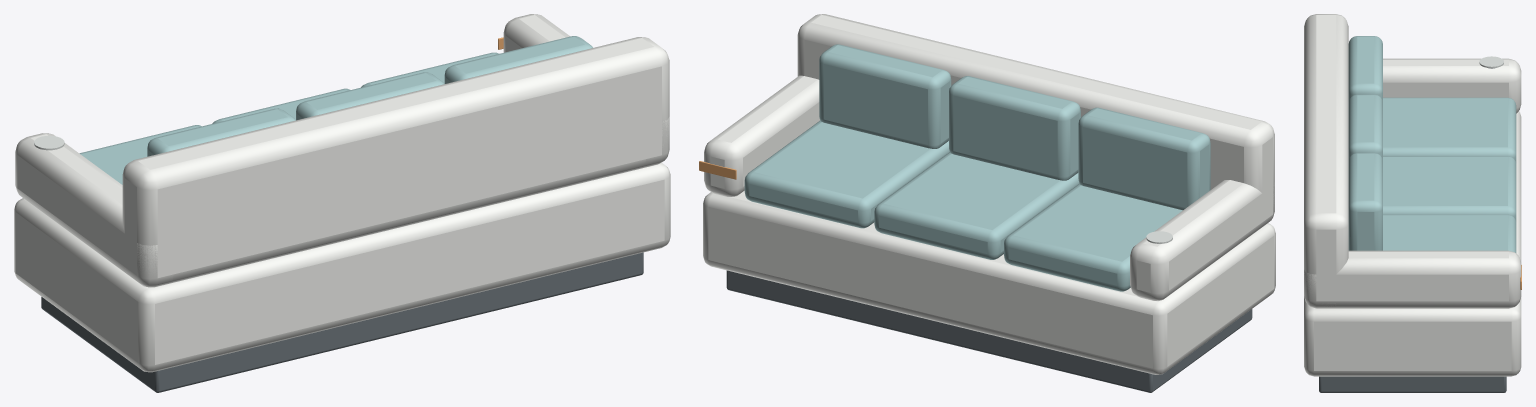
Rendered from lounge_sofa.glb.
3 views of the same model, side by side, from view 1: azimuth 30°, elevation 25°; view 2: azimuth 150°, elevation 25°; view 3: azimuth 270°, elevation 25° (orthographic). The views are drawn at different scales.
Parts seen in each view (by area): view 1: back_white_painted, base_white_painted, plinth_graphite, arm_l_white_painted, arm_r_white_painted, back_0_teal_soft, back_2_teal_soft, back_1_teal_soft, seat_0_teal_soft, seat_2_teal_soft, seat_1_teal_soft; view 2: base_white_painted, back_white_painted, seat_2_teal_soft, seat_1_teal_soft, seat_0_teal_soft, back_2_teal_soft, back_1_teal_soft, back_0_teal_soft, plinth_graphite, arm_l_white_painted, arm_r_white_painted; view 3: base_white_painted, back_white_painted, arm_r_white_painted, seat_0_teal_soft, seat_1_teal_soft, arm_l_white_painted, seat_2_teal_soft, back_2_teal_soft, plinth_graphite, back_0_teal_soft, back_1_teal_soft, cup_ring_satin_steel.
Boxes of the visible parts, <box> form: back_white_painted: <box>122,37,669,284</box>; base_white_painted: <box>14,162,670,372</box>; plinth_graphite: <box>41,252,643,392</box>; arm_l_white_painted: <box>15,133,173,287</box>; arm_r_white_painted: <box>503,14,669,168</box>; back_0_teal_soft: <box>147,108,295,156</box>; back_2_teal_soft: <box>444,36,592,83</box>; back_1_teal_soft: <box>296,72,444,120</box>; seat_0_teal_soft: <box>79,125,201,184</box>; seat_2_teal_soft: <box>361,52,498,87</box>; seat_1_teal_soft: <box>212,88,350,123</box>; base_white_painted: <box>703,191,1275,374</box>; back_white_painted: <box>797,14,1274,215</box>; seat_2_teal_soft: <box>744,121,949,228</box>; seat_1_teal_soft: <box>874,152,1079,259</box>; seat_0_teal_soft: <box>1004,184,1182,291</box>; back_2_teal_soft: <box>819,44,951,148</box>; back_1_teal_soft: <box>949,76,1080,180</box>; back_0_teal_soft: <box>1078,107,1210,210</box>; plinth_graphite: <box>726,270,1252,392</box>; arm_l_white_painted: <box>1130,180,1274,300</box>; arm_r_white_painted: <box>704,75,819,196</box>; base_white_painted: <box>1304,111,1521,376</box>; back_white_painted: <box>1304,14,1348,306</box>; arm_r_white_painted: <box>1304,250,1521,308</box>; seat_0_teal_soft: <box>1383,97,1516,162</box>; seat_1_teal_soft: <box>1383,156,1516,221</box>; arm_l_white_painted: <box>1383,58,1521,113</box>; seat_2_teal_soft: <box>1383,214,1516,252</box>; back_2_teal_soft: <box>1348,153,1382,250</box>; plinth_graphite: <box>1319,376,1506,392</box>; back_0_teal_soft: <box>1348,36,1382,101</box>; back_1_teal_soft: <box>1348,94,1382,159</box>; cup_ring_satin_steel: <box>1479,56,1503,68</box>.
Bounding box in the file's own units: 2 × 0.82 × 0.882.
